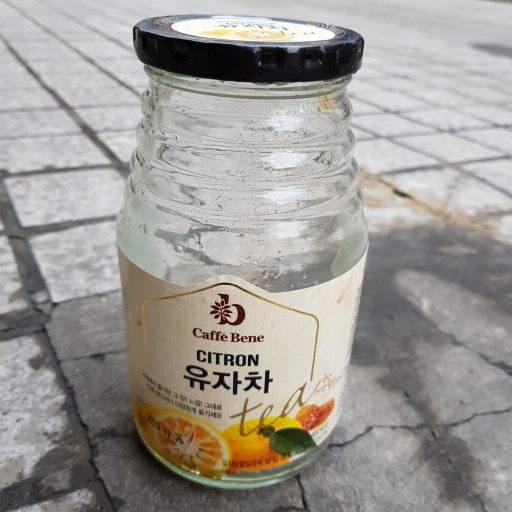Glass_5: (113, 7, 378, 496)
